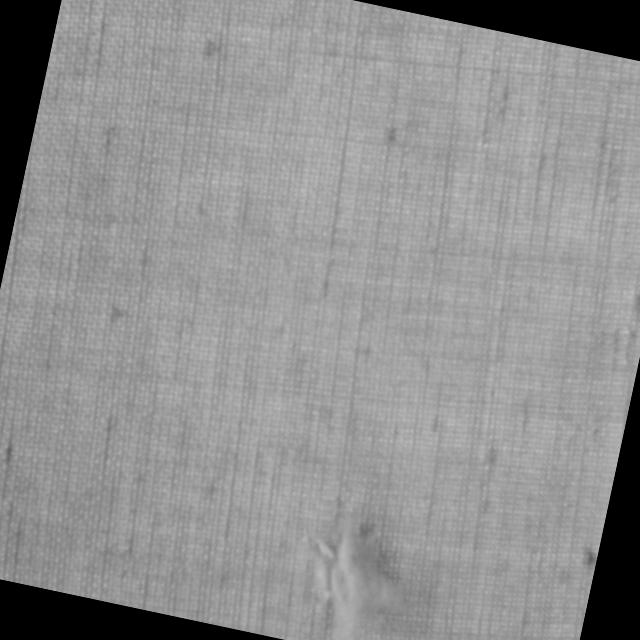objects: (294, 502, 417, 640)
